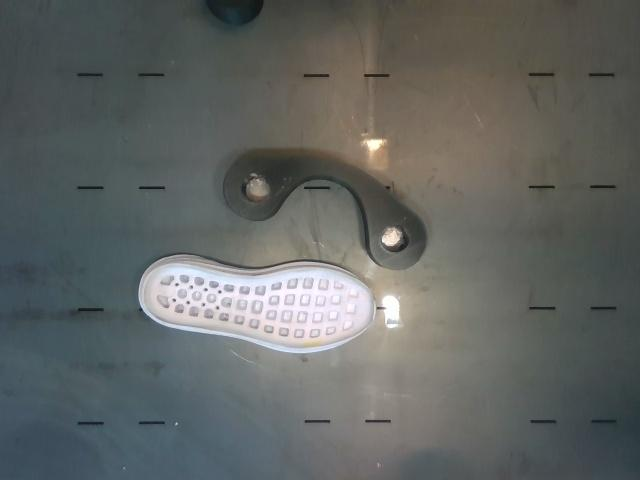shoes: (144, 264, 375, 349)
